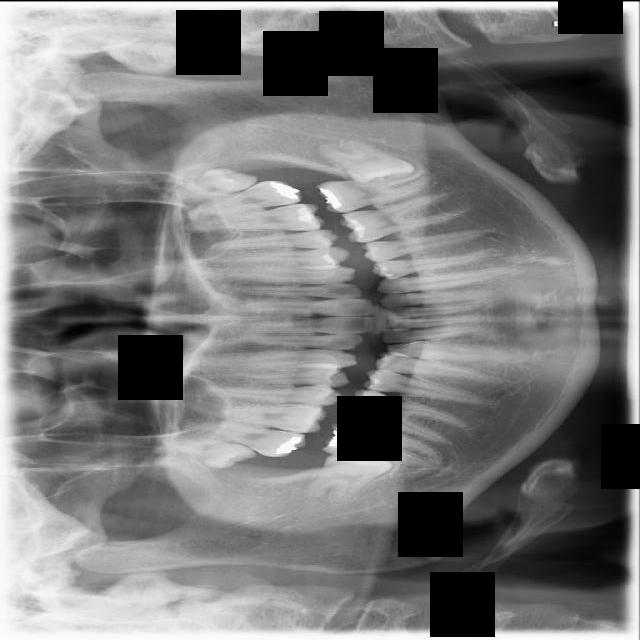3M ESPE Implant: (159, 434, 258, 472)
52: (313, 169, 367, 221), (320, 413, 371, 464), (250, 176, 304, 207), (252, 429, 309, 457), (275, 202, 325, 231)
73: (568, 31, 576, 37)
BioHorizons Implant: (182, 174, 305, 220)
BioLife Implant: (165, 156, 261, 211)
Biomet 3i Implant: (313, 126, 418, 201)
Blue Sky Bio Implant: (312, 166, 433, 217)
Caries: (180, 415, 309, 461)
Implant: (321, 418, 442, 468)
Keystone Dental Implant: (305, 449, 393, 508)
